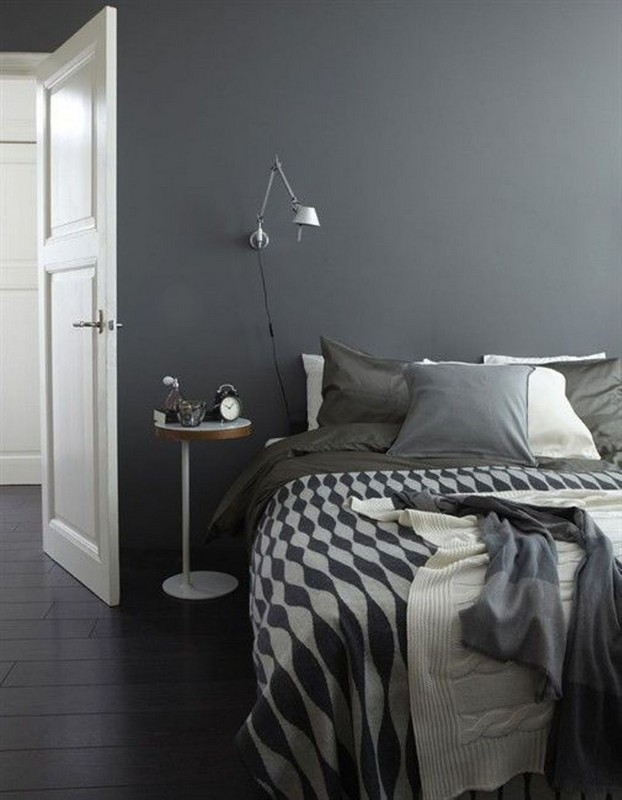bed: (264, 337, 621, 800)
door: (32, 7, 128, 610)
lamp: (248, 145, 324, 261)
stool: (155, 397, 253, 604)
